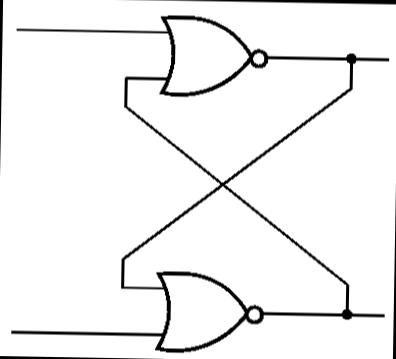nor: (153, 7, 276, 107), (151, 264, 272, 358)
